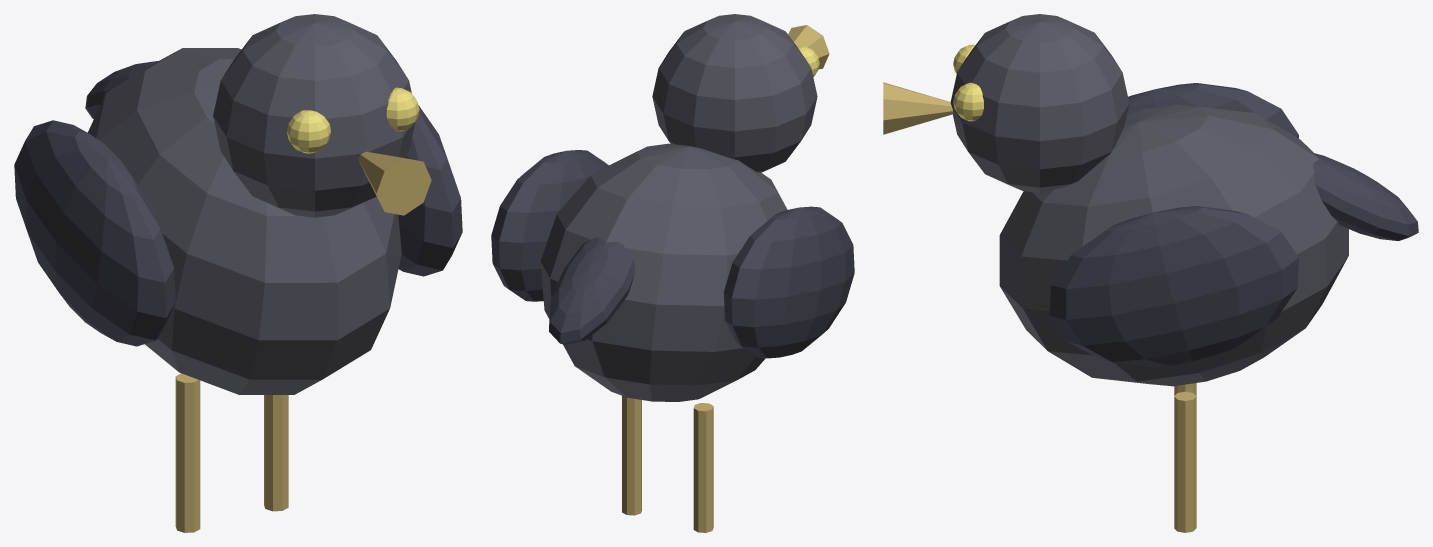
Rendered from creature_bird_dark.glb.
The picture shows the model from 3 angles, left to right: view 1: azimuth 30°, elevation 25°; view 2: azimuth 150°, elevation 25°; view 3: azimuth 270°, elevation 25°; orthographic projection. The views are drawn at different scales.
Visible parts, largest first — view 1: creature_bird_dark; view 2: creature_bird_dark; view 3: creature_bird_dark.
Boxes of the visible parts, <box> form: creature_bird_dark: <box>14,14,462,532</box>; creature_bird_dark: <box>491,14,854,532</box>; creature_bird_dark: <box>883,14,1418,532</box>.
Size of the model in its own units: 0.5546 by 0.8067 by 0.8041.
